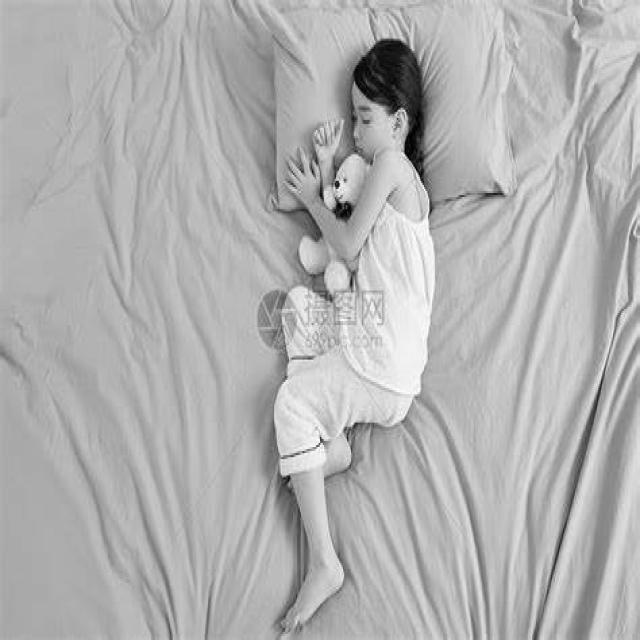lie: (272, 37, 442, 640)
